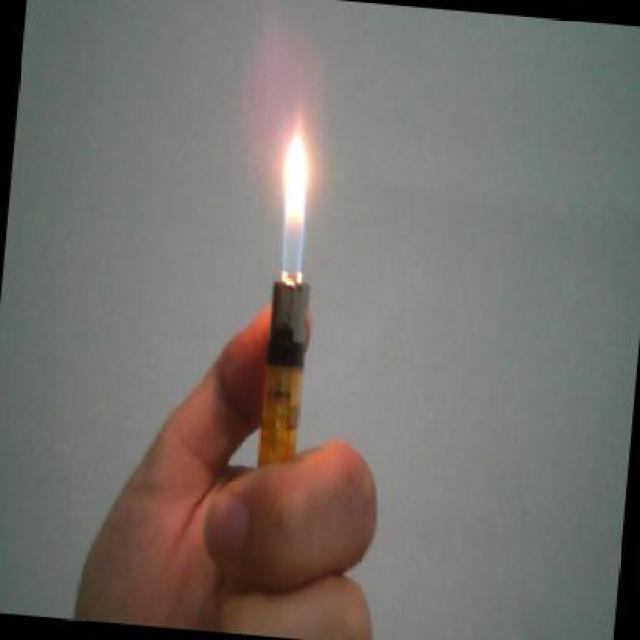Fire: (272, 100, 317, 290)
